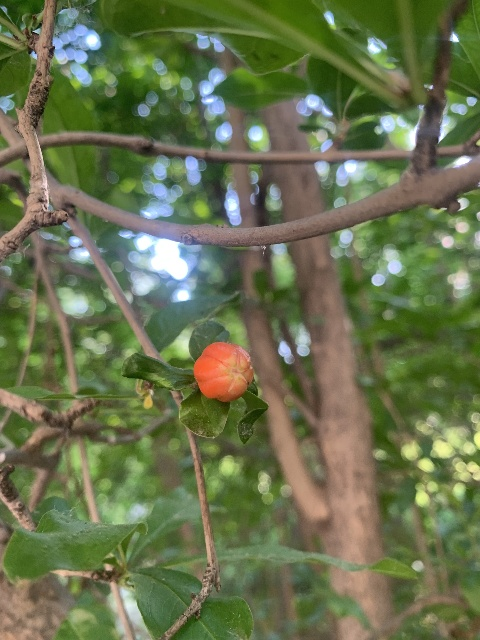bud: (193, 341, 253, 403)
